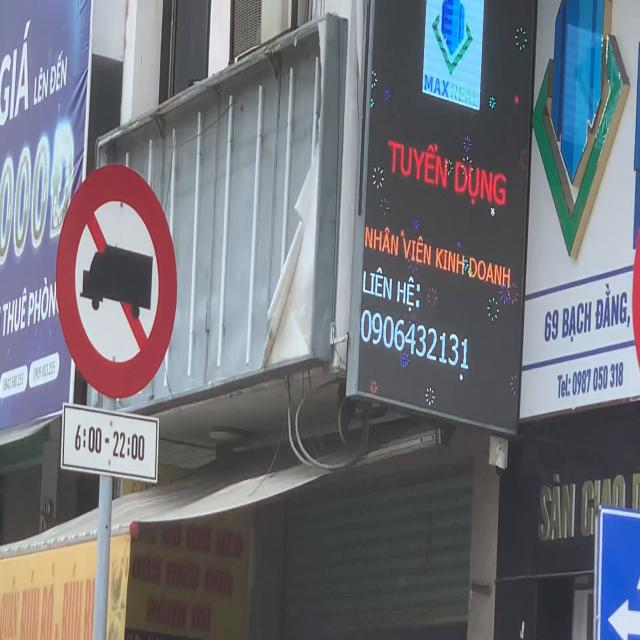Cam con lai: (54, 156, 178, 396)
